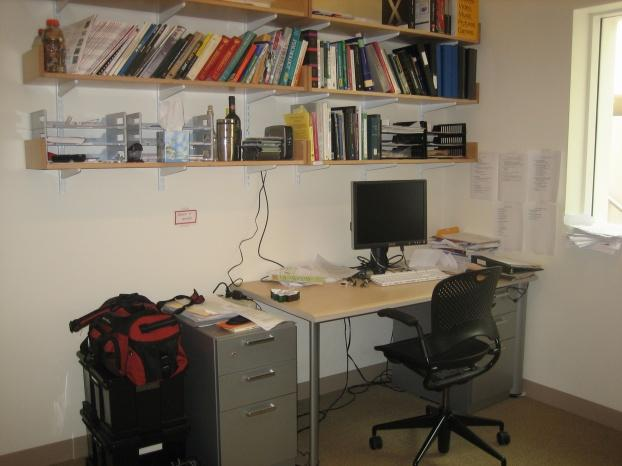AIO PC-Monitor-TV: (349, 176, 427, 249)
Filing Cabinet: (184, 317, 298, 465)
Kursi: (368, 263, 509, 465)
